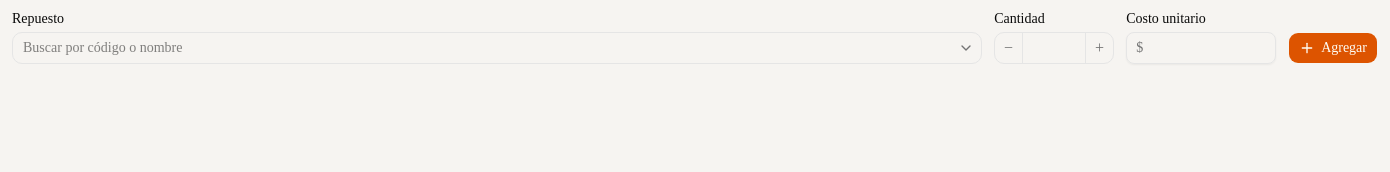
Scenario: AgregarEntradaItemForm › filters the repuesto options by código or nombre as you type
This screenshot has width=1390, height=172.
Type "PAS-002" into the dropdown labelled "Repuesto".
click(497, 48); type("PAS-002")  # box [12,32,982,64]
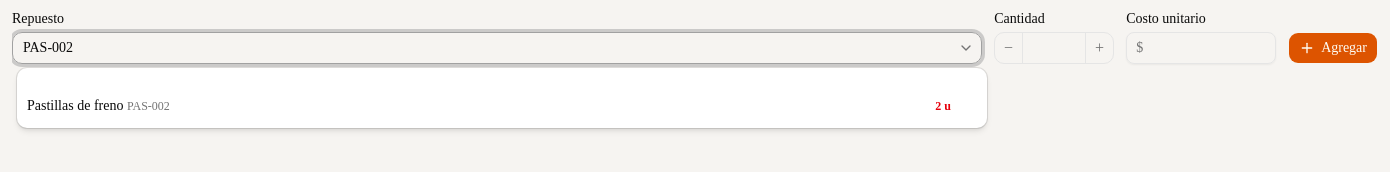
Check: the option "Pastillas de freno PAS-002 2 u" is shown, box [27,98,951,113]
Check: the option "Filtro de aceite" is gone
